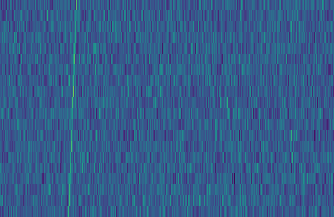signal: (61, 0, 78, 217)
